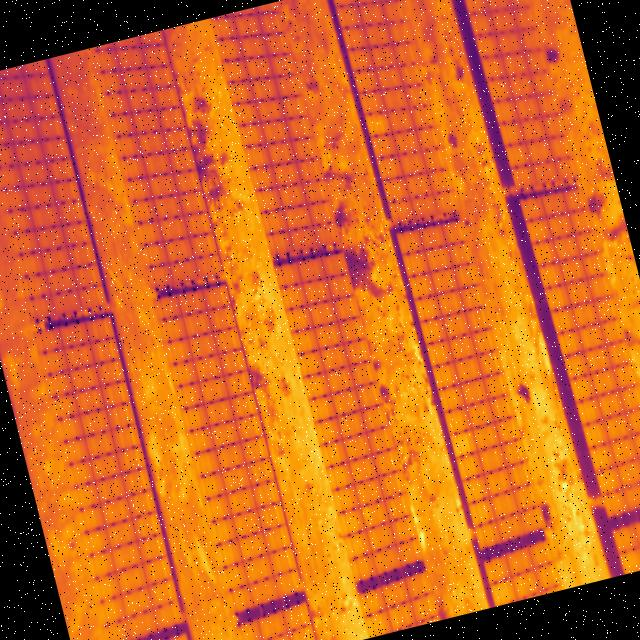Hotspot: (448, 427, 476, 457), (366, 111, 390, 134), (362, 505, 374, 521)
